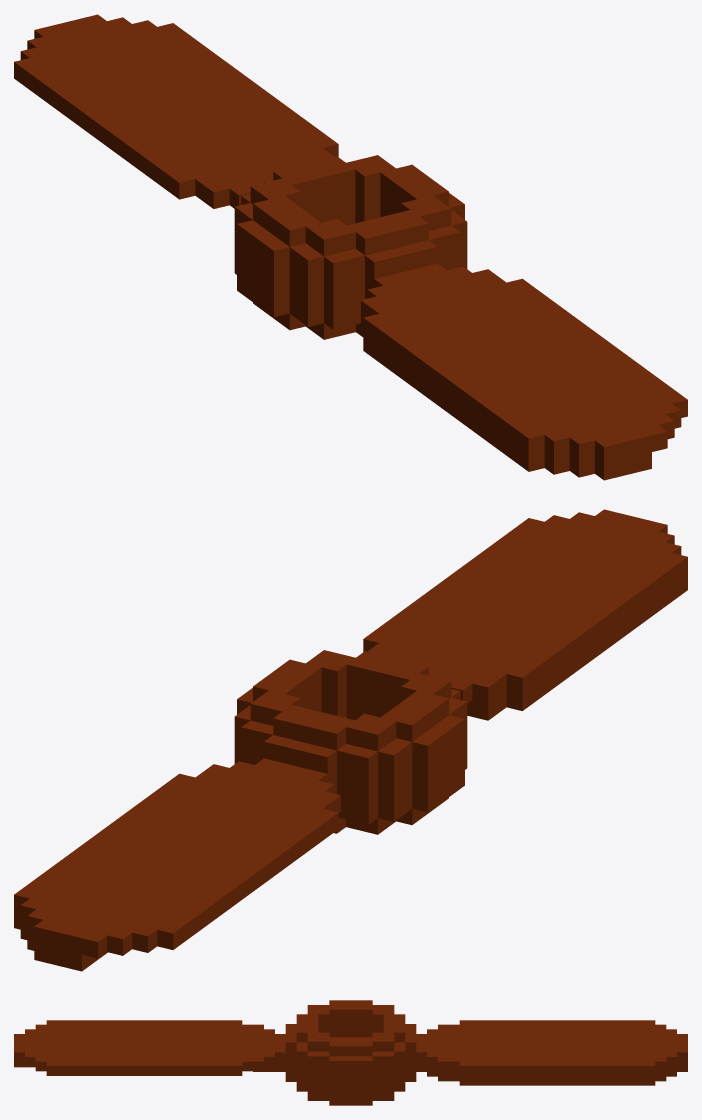
File: BoatBlades.obj
The picture shows the model from 3 angles, top to bottom: view 1: azimuth 30°, elevation 25°; view 2: azimuth 150°, elevation 25°; view 3: azimuth 270°, elevation 25°; orthographic projection. The views are drawn at different scales.
Size of the model in its own units: 12 by 6 by 62.
Materials: 1 (1 with a texture image).
